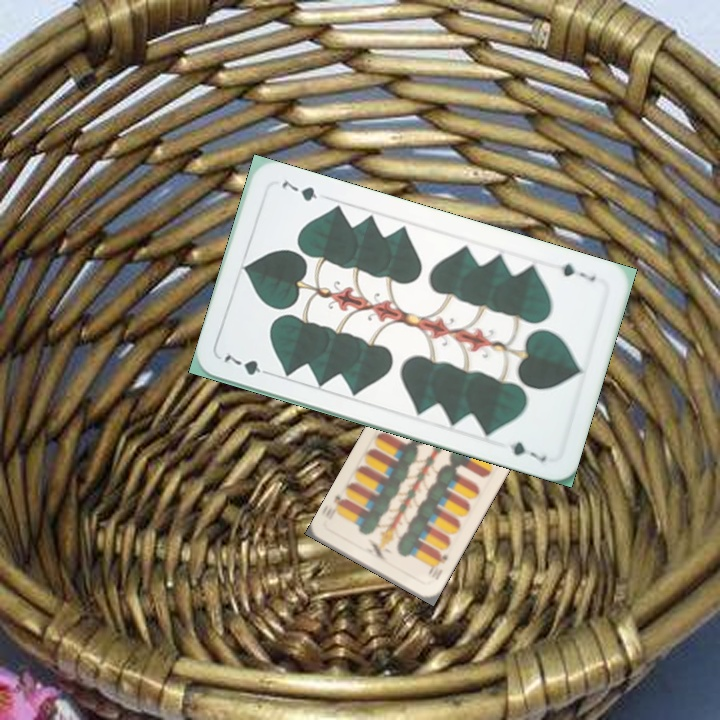E10: (427, 548, 451, 583)
G7: (219, 350, 276, 378), (556, 259, 598, 284)
